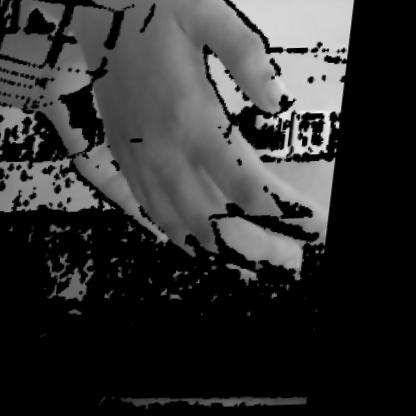dua: (0, 0, 350, 277)
